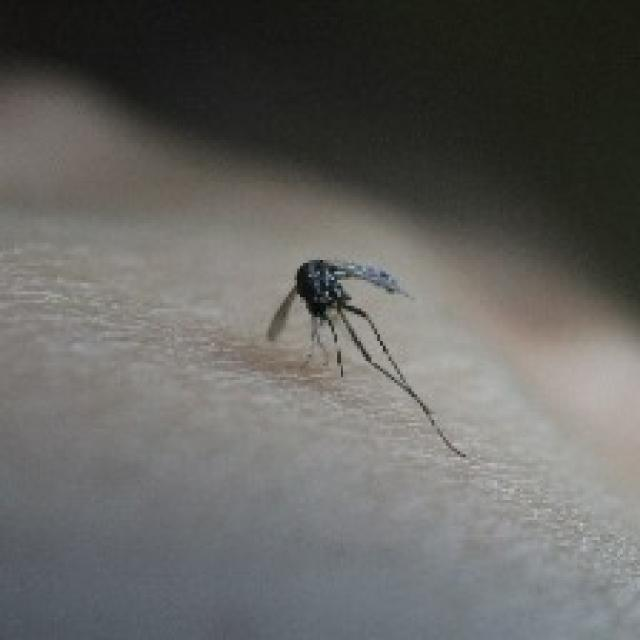aedes: (263, 254, 466, 460)
